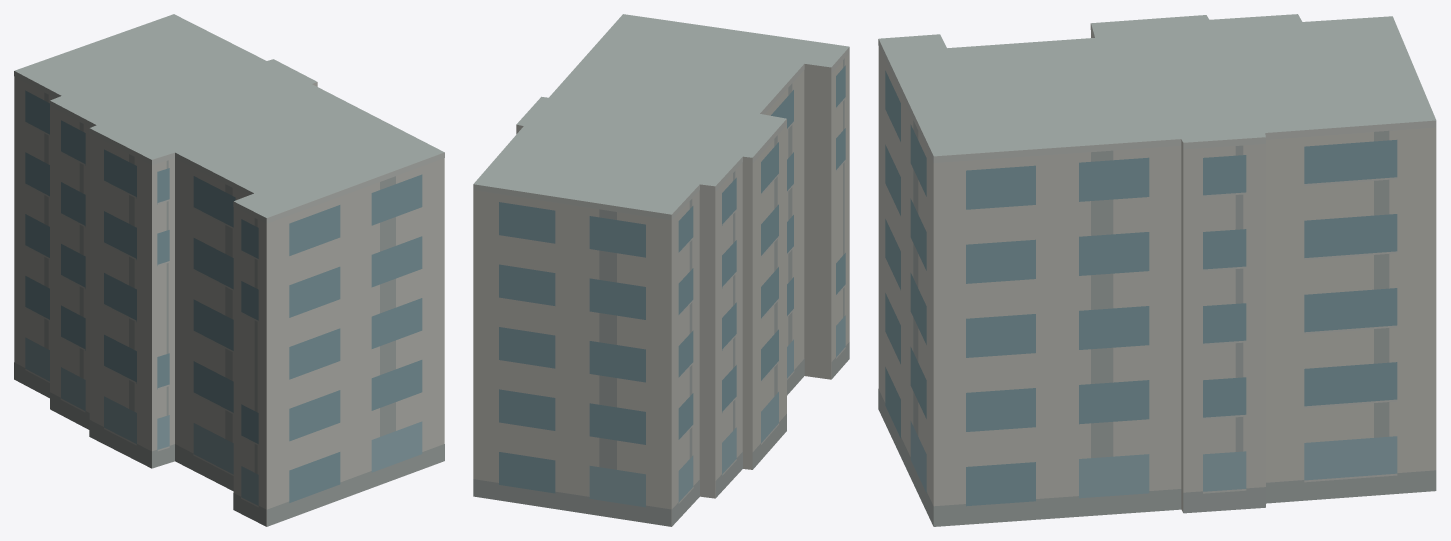
The model's file is survey-upis-32532973.glb.
3 views of the same model, side by side, from view 1: azimuth 30°, elevation 25°; view 2: azimuth 150°, elevation 25°; view 3: azimuth 270°, elevation 25° (orthographic). The views are drawn at different scales.
Visible parts, largest first — view 1: survey-upis-32532973.tmp; view 2: survey-upis-32532973.tmp; view 3: survey-upis-32532973.tmp.
Boxes of the visible parts, x1=… form: survey-upis-32532973.tmp: x1=14, y1=14, x2=444, y2=526; survey-upis-32532973.tmp: x1=473, y1=14, x2=849, y2=526; survey-upis-32532973.tmp: x1=878, y1=14, x2=1436, y2=526.
Bounding box in the file's own units: 10.89 × 13.2 × 18.03.
